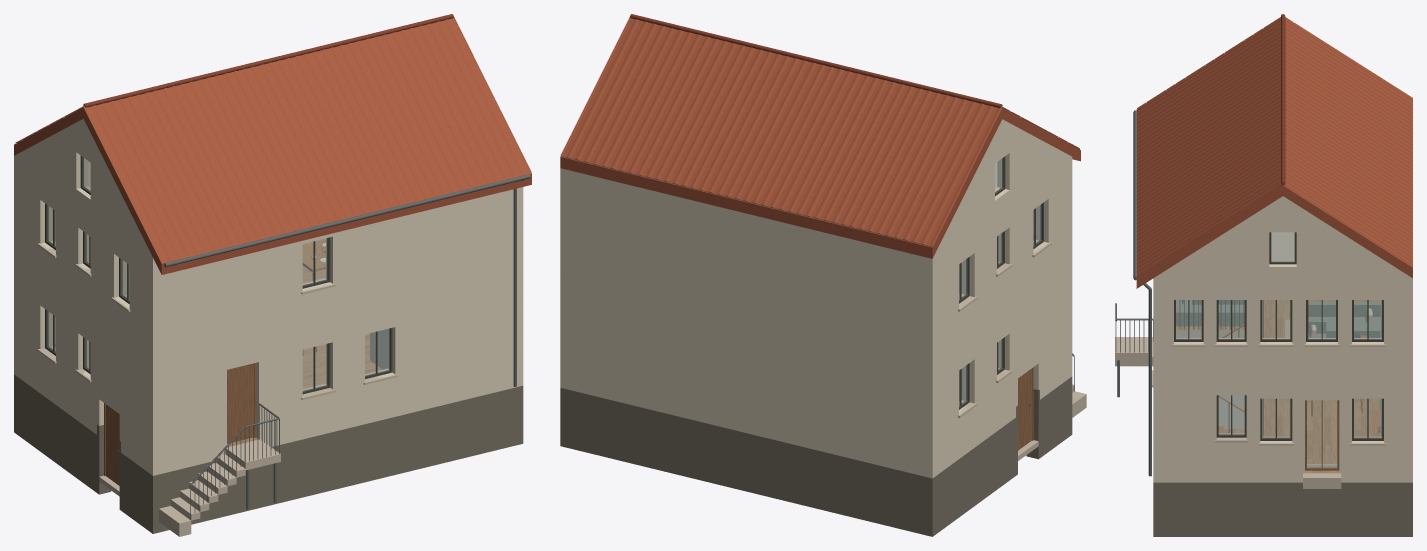
The model's file is haus.glb.
The picture shows the model from 3 angles, left to right: view 1: azimuth 30°, elevation 25°; view 2: azimuth 150°, elevation 25°; view 3: azimuth 270°, elevation 25°; orthographic projection. The views are drawn at different scales.
Visible parts, largest first — view 1: dach · Unglasierter Tonziegel, eg · Kalkputz warmweiß · Schnitt, og · Kalkputz warmweiß · Schnitt, sockel · Sockel mineralisch, dach · Kalkputz warmweiß, deckeEg · Kalkputz warmweiß, eg · Kalkputz warmweiß, eg · Werkstein, eg · Haustür Eiche · Schnitt, dach · Rinne und Geländer, eg · Fensterglas · Schnitt, eg · Rinne und Geländer (+10 smaller); view 2: dach · Unglasierter Tonziegel, eg · Kalkputz warmweiß, og · Kalkputz warmweiß, sockel · Sockel mineralisch, eg · Kalkputz warmweiß · Schnitt, og · Kalkputz warmweiß · Schnitt, dach · Kalkputz warmweiß, deckeEg · Kalkputz warmweiß, deckeOg · Kalkputz warmweiß, dach · Firstziegel, eg · Haustür Eiche · Schnitt, og · Fensterrahmen · Schnitt (+2 smaller); view 3: dach · Unglasierter Tonziegel, eg · Kalkputz warmweiß, og · Kalkputz warmweiß, sockel · Sockel mineralisch, dach · Kalkputz warmweiß, og · Fensterglas, eg · Fensterglas, eg · Dielen, og · Polsterstoff salbei, deckeEg · Kalkputz warmweiß, deckeOg · Kalkputz warmweiß, eg · Werkstein (+15 smaller).
Part boxes in pixels (x1,y1,x2,y2): dach · Unglasierter Tonziegel: (14,16,531,274); eg · Kalkputz warmweiß · Schnitt: (21,274,523,465); og · Kalkputz warmweiß · Schnitt: (21,170,523,359); sockel · Sockel mineralisch: (14,374,523,533); dach · Kalkputz warmweiß: (14,118,152,257); deckeEg · Kalkputz warmweiß: (14,258,523,370); eg · Kalkputz warmweiß: (14,269,523,475); eg · Werkstein: (99,439,280,536); eg · Haustür Eiche · Schnitt: (104,363,256,485); dach · Rinne und Geländer: (15,143,530,386); eg · Fensterglas · Schnitt: (47,311,389,391); eg · Rinne und Geländer: (190,403,279,519); dach · Unglasierter Tonziegel: (560,17,1080,258); eg · Kalkputz warmweiß: (560,281,1072,478); og · Kalkputz warmweiß: (560,177,939,361); sockel · Sockel mineralisch: (560,376,1072,536); eg · Kalkputz warmweiß · Schnitt: (939,270,1072,462); og · Kalkputz warmweiß · Schnitt: (939,166,1072,355); dach · Kalkputz warmweiß: (933,119,1071,258); deckeEg · Kalkputz warmweiß: (560,260,1072,372); deckeOg · Kalkputz warmweiß: (560,157,1072,267); dach · Firstziegel: (630,14,1002,107); eg · Haustür Eiche · Schnitt: (1018,367,1033,450); og · Fensterrahmen · Schnitt: (959,202,1043,303); dach · Unglasierter Tonziegel: (1136,17,1412,288); eg · Kalkputz warmweiß: (1153,384,1412,482); og · Kalkputz warmweiß: (1166,286,1412,373); sockel · Sockel mineralisch: (1153,482,1412,536); dach · Kalkputz warmweiß: (1154,196,1411,278); og · Fensterglas: (1176,300,1381,339); eg · Fensterglas: (1219,395,1381,467); eg · Dielen: (1224,398,1380,472); og · Polsterstoff salbei: (1176,300,1380,337); deckeEg · Kalkputz warmweiß: (1153,330,1412,383); deckeOg · Kalkputz warmweiß: (1153,278,1412,286); eg · Werkstein: (1115,337,1385,488).
Size of the model in its own units: 11.36 by 10.77 by 8.2.
28 materials, 10 textured.
